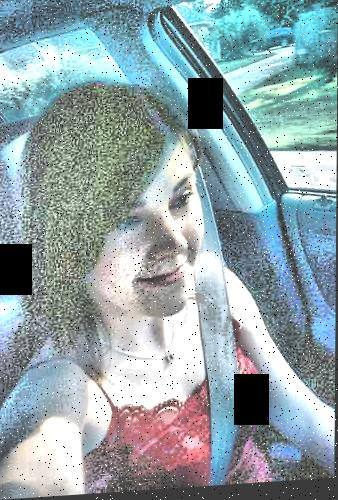seatbelt: (172, 138, 256, 468)
